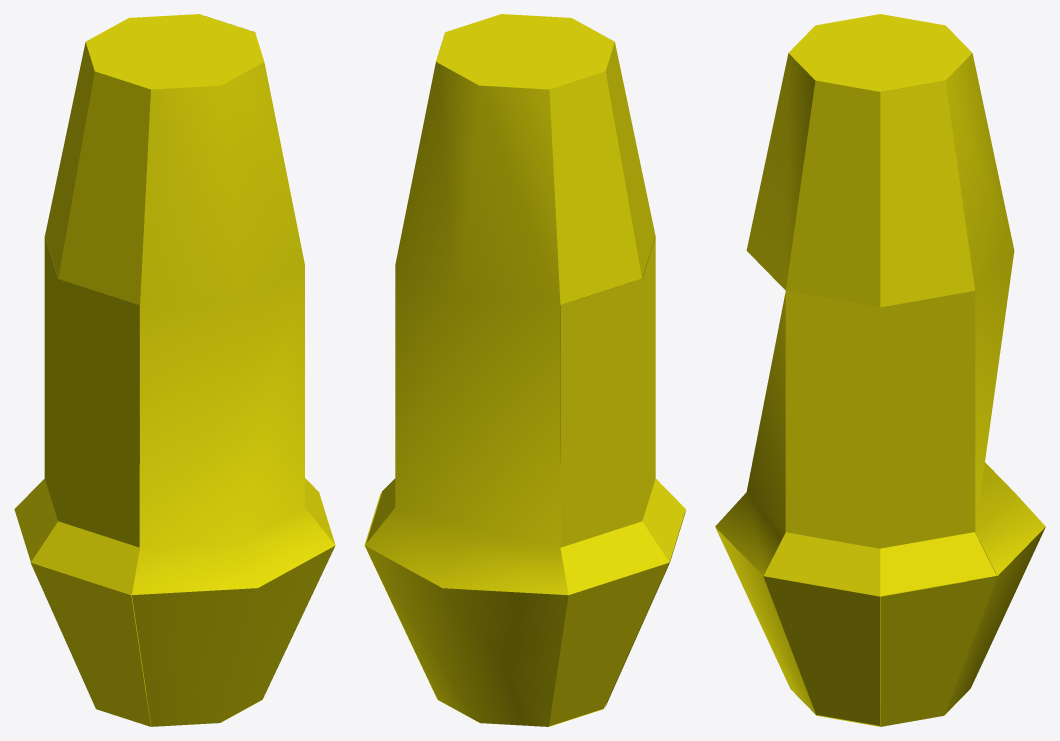
Rendered from motorzuti-đfbx.fbx.
3 renders of one model, left to right at view 1: azimuth 30°, elevation 25°; view 2: azimuth 150°, elevation 25°; view 3: azimuth 270°, elevation 25°, orthographic.
Parts seen in each view (by area): view 1: drone_costum_Cube; view 2: drone_costum_Cube; view 3: drone_costum_Cube.
Boxes of the visible parts, x1=… form: drone_costum_Cube: x1=14, y1=14, x2=335, y2=726; drone_costum_Cube: x1=364, y1=14, x2=685, y2=726; drone_costum_Cube: x1=715, y1=14, x2=1045, y2=726.
Size of the model in its own units: 72.71 by 153 by 72.38.
